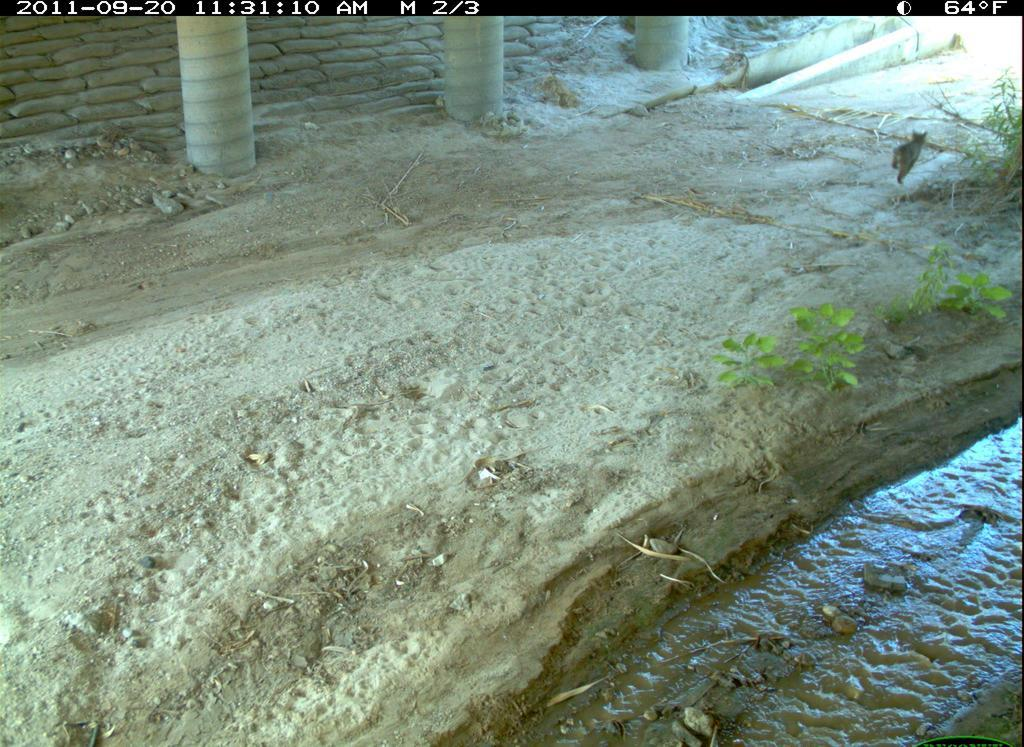bobcat: (891, 129, 931, 187)
